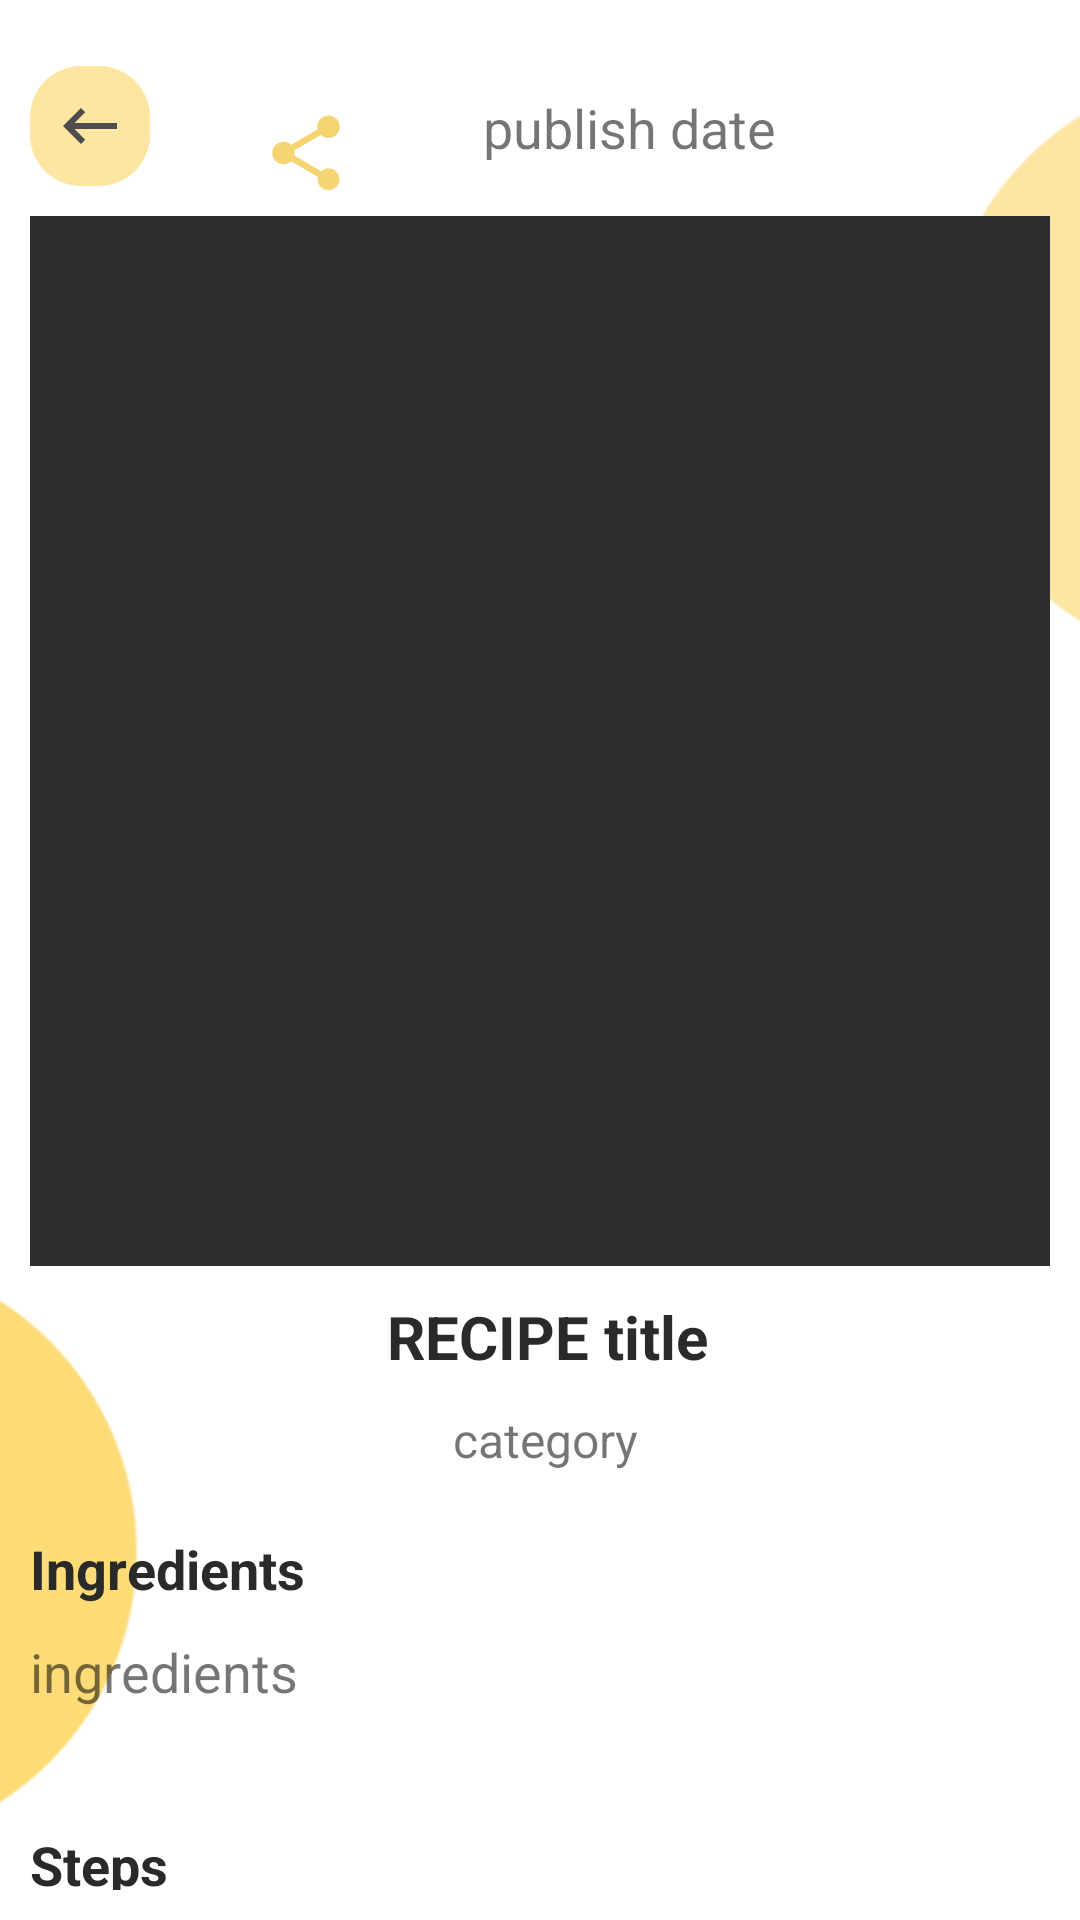

Named icons in this screenshot (1080w x 1920h) and their centers, point (x, y):
keyboard backspace: point (90, 126)
share: point (306, 153)
